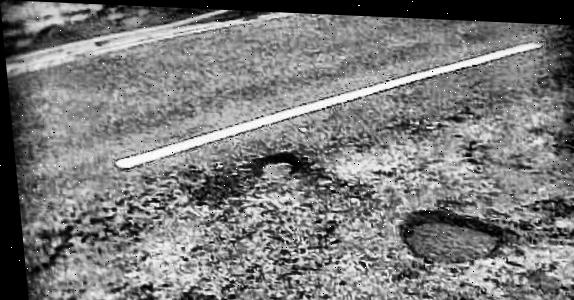pothole: (391, 201, 502, 266), (245, 145, 300, 182)
